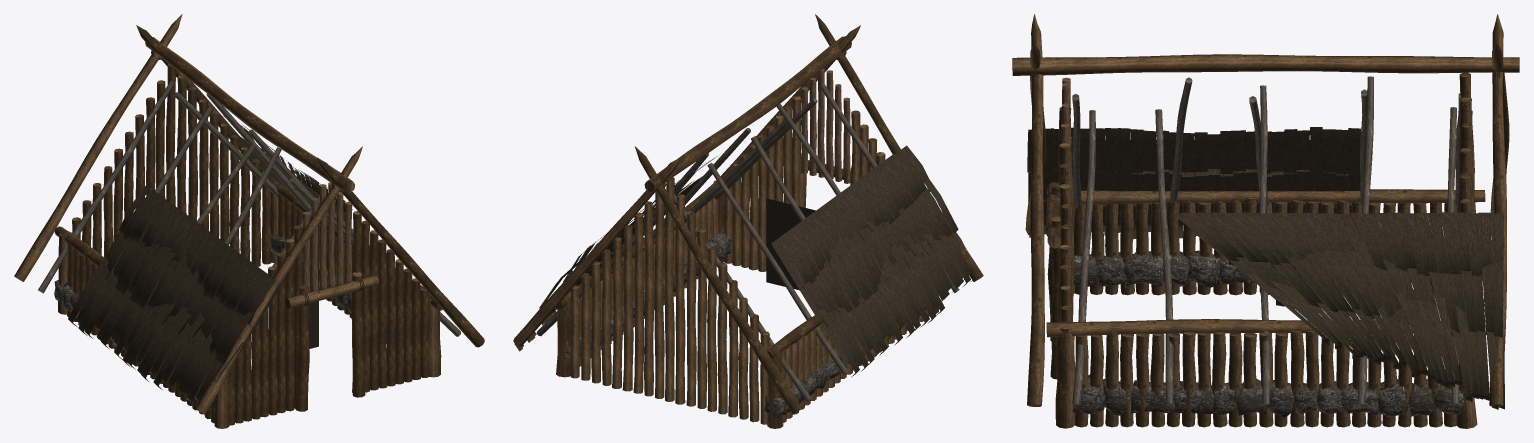
File: SM_Bld_Player_Ruin.gltf
3 views of the same model, side by side, from view 1: azimuth 30°, elevation 25°; view 2: azimuth 150°, elevation 25°; view 3: azimuth 270°, elevation 25° (orthographic). The views are drawn at different scales.
Visible parts, largest first — view 1: SM_Bld_Player_Ruin; view 2: SM_Bld_Player_Ruin; view 3: SM_Bld_Player_Ruin.
Part boxes in pixels (bbox=[...]): SM_Bld_Player_Ruin: bbox=[14, 14, 484, 428]; SM_Bld_Player_Ruin: bbox=[513, 14, 983, 428]; SM_Bld_Player_Ruin: bbox=[1012, 14, 1519, 428].
Bounding box in the file's own units: 6.88 × 5.83 × 8.1.
7 materials, 6 textured.
